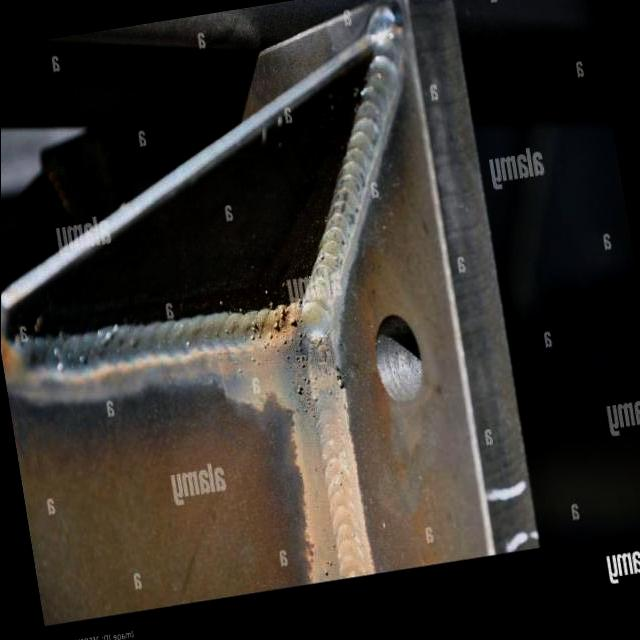defect: (247, 305, 304, 349), (283, 332, 310, 370), (292, 381, 303, 397), (336, 376, 346, 390), (310, 391, 319, 403), (302, 376, 311, 385)
